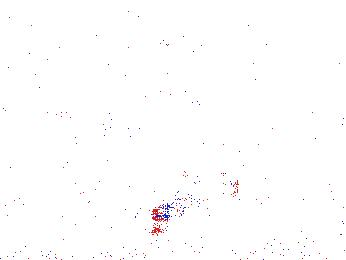flame jellyfish: (152, 160, 237, 222), (38, 170, 118, 220), (244, 162, 305, 210)
